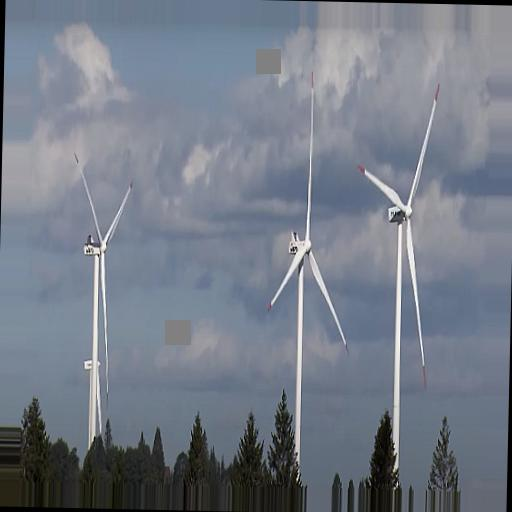wind turbine: (354, 80, 442, 472), (264, 70, 351, 454), (72, 151, 137, 443)
